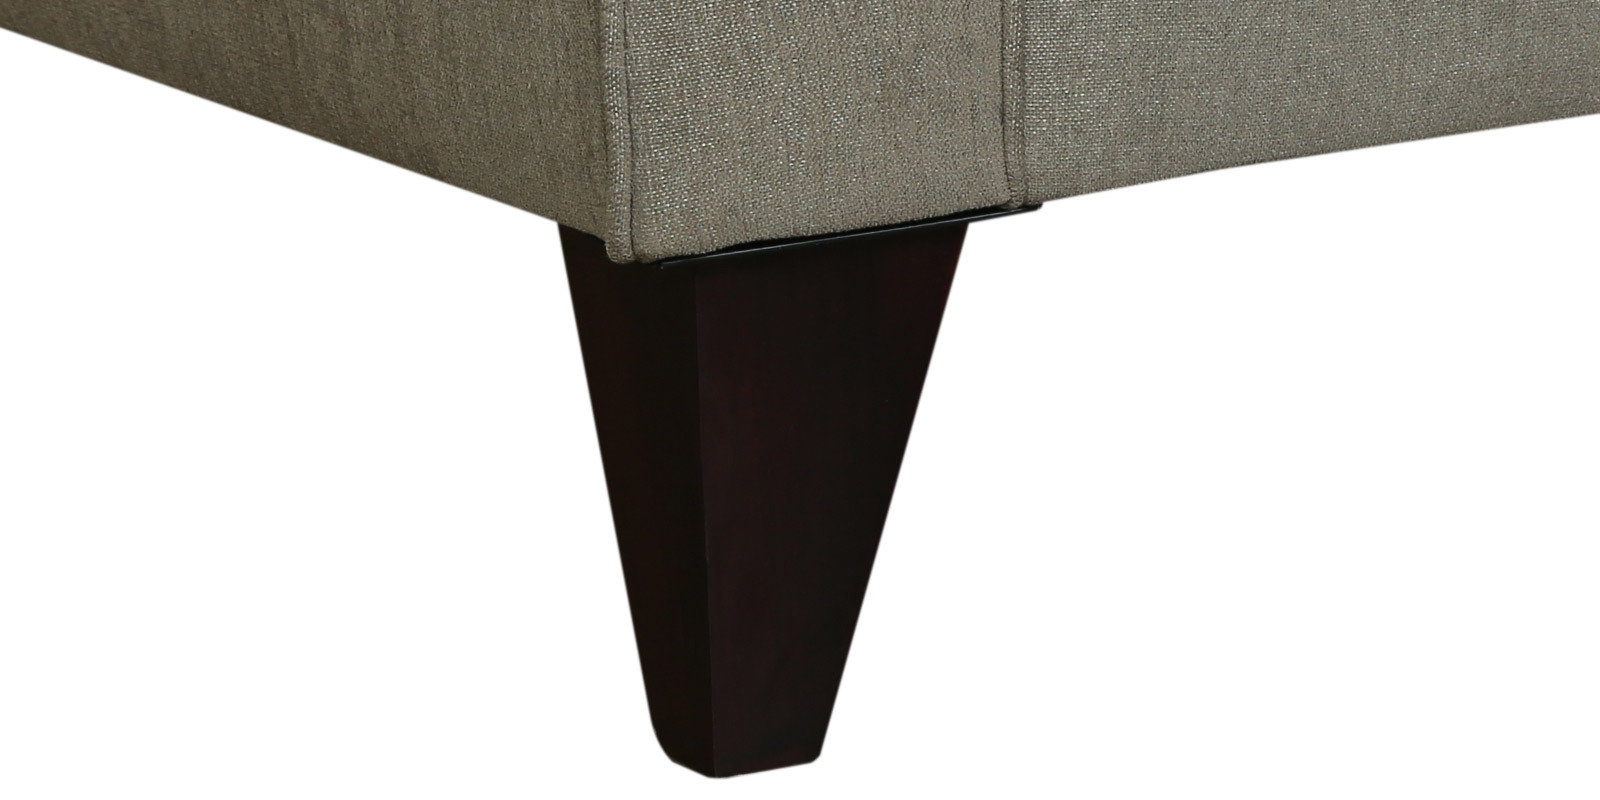Fuego Three Seater Sofa in Sandy Brown Colour by CasaCraft: (5, 6, 1600, 788)
